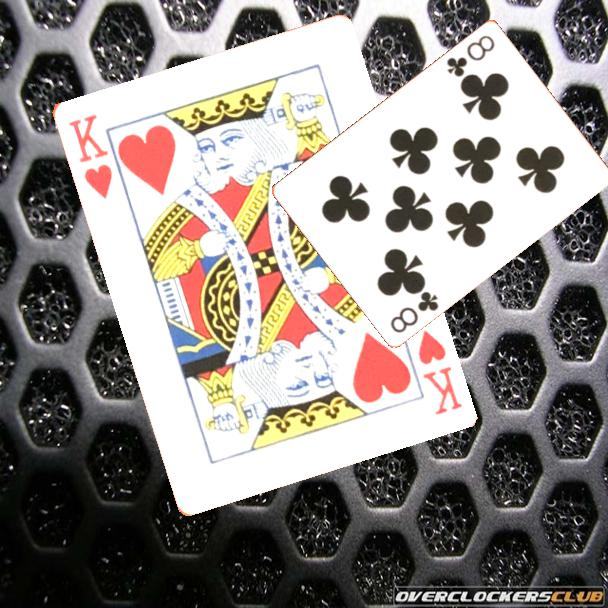c08: (387, 287, 442, 336), (443, 31, 498, 79)
h13: (64, 110, 115, 202), (414, 325, 464, 417)
